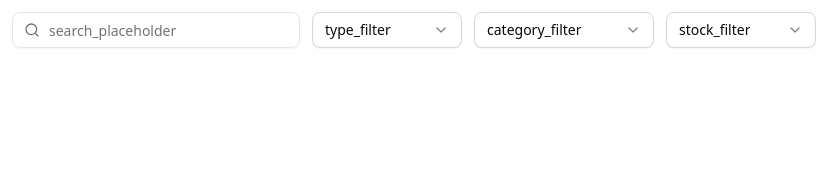
Test case: CatalogFilterBar › Type filter functionality › should show available types in dropdown
Click to open type filter
Click the dropdown "type_filter".
click(387, 30)  # box [312, 12, 462, 48]
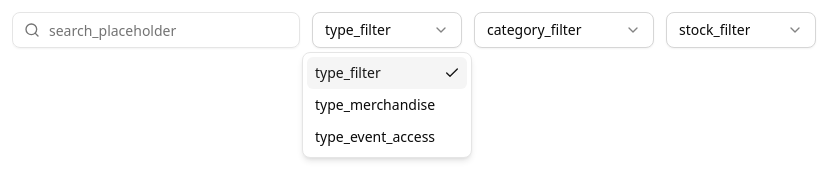
Expected: the option "type_merchandise" is shown, [315, 95, 435, 114]
Expected: the option "type_event_access" is shown, [315, 127, 435, 146]
